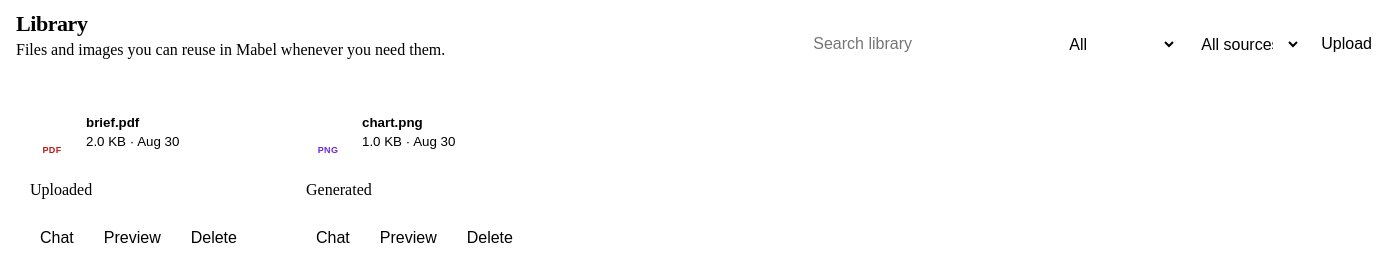
Test: MabelPage › filters library files by type and source without showing notes
This screenshot has width=1388, height=260.
Check: the text "brief.pdf" is shown, box [86, 115, 139, 130]
Check: the text "chart.png" is shown, box [362, 115, 423, 130]
Select "PDFs" in the dropdown named "Library file type" at coordinates (1115, 44), box [1053, 29, 1177, 59]
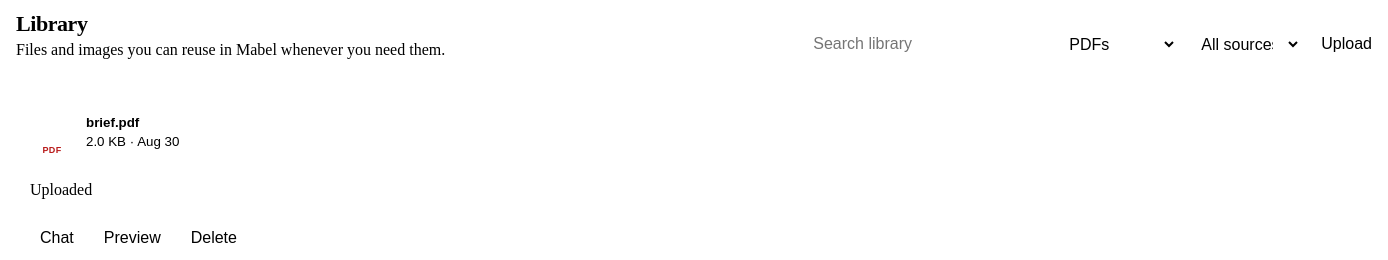
Check: the text "brief.pdf" is shown, box [86, 115, 139, 130]
Check: the button "chart.png" is gone
Select "All" in the dropdown named "Library file type" at coordinates (1115, 44), box [1053, 29, 1177, 59]
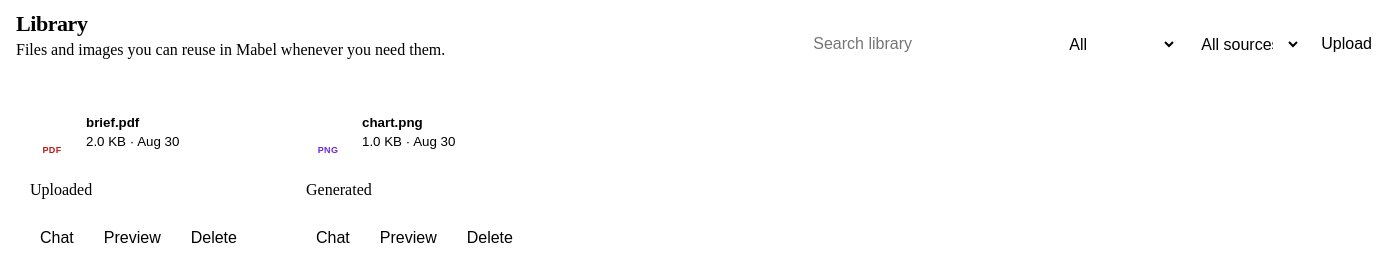
Select "Generated" in the dropdown named "Library source" at coordinates (1243, 44), box [1185, 29, 1301, 59]
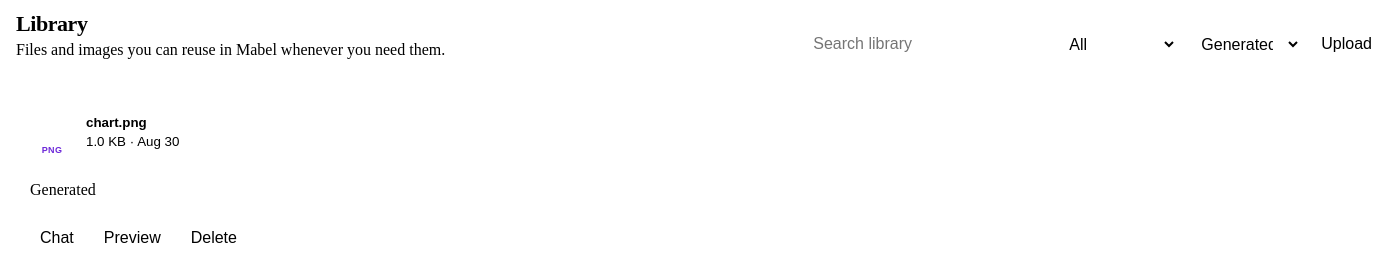
Check: the text "chart.png" is shown, box [86, 115, 147, 130]
Check: the button "brief.pdf" is gone
